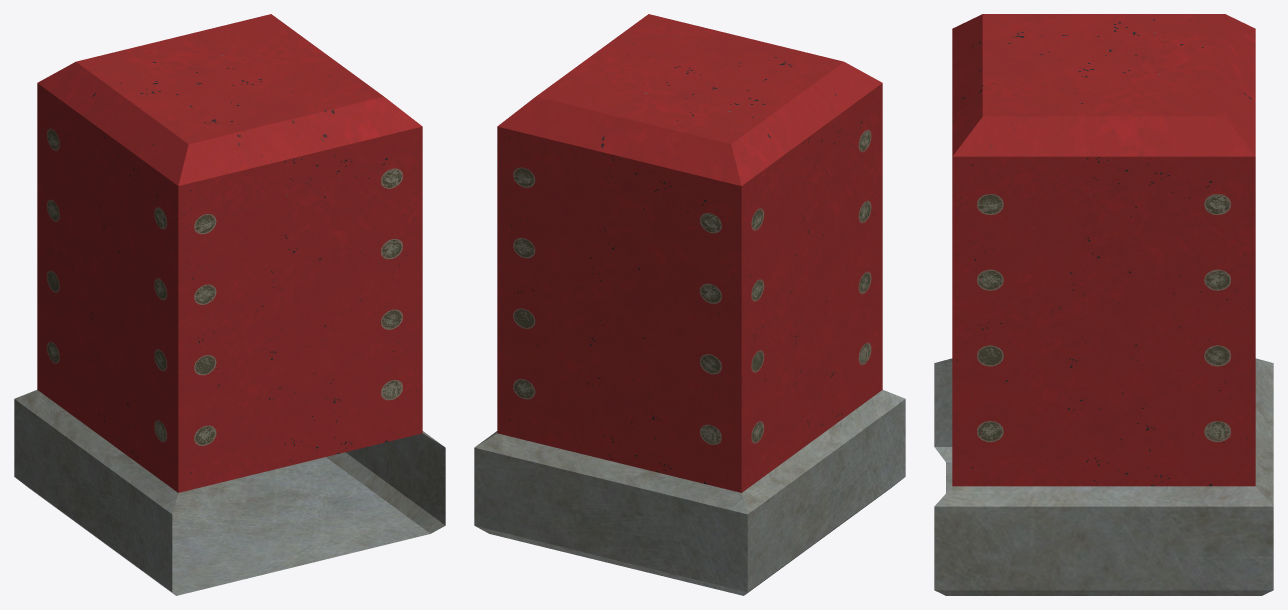
The model's file is Ob_RailingConnector_RC.fbx.
The picture shows the model from 3 angles, left to right: view 1: azimuth 30°, elevation 25°; view 2: azimuth 150°, elevation 25°; view 3: azimuth 270°, elevation 25°; orthographic projection. The views are drawn at different scales.
Parts seen in each view (by area): view 1: Ob_RailingConnector_RC; view 2: Ob_RailingConnector_RC; view 3: Ob_RailingConnector_RC.
Boxes of the visible parts, <box> form: Ob_RailingConnector_RC: <box>14,14,445,595</box>; Ob_RailingConnector_RC: <box>474,14,905,595</box>; Ob_RailingConnector_RC: <box>934,14,1273,595</box>.
Size of the model in its own units: 152 by 230 by 152.
